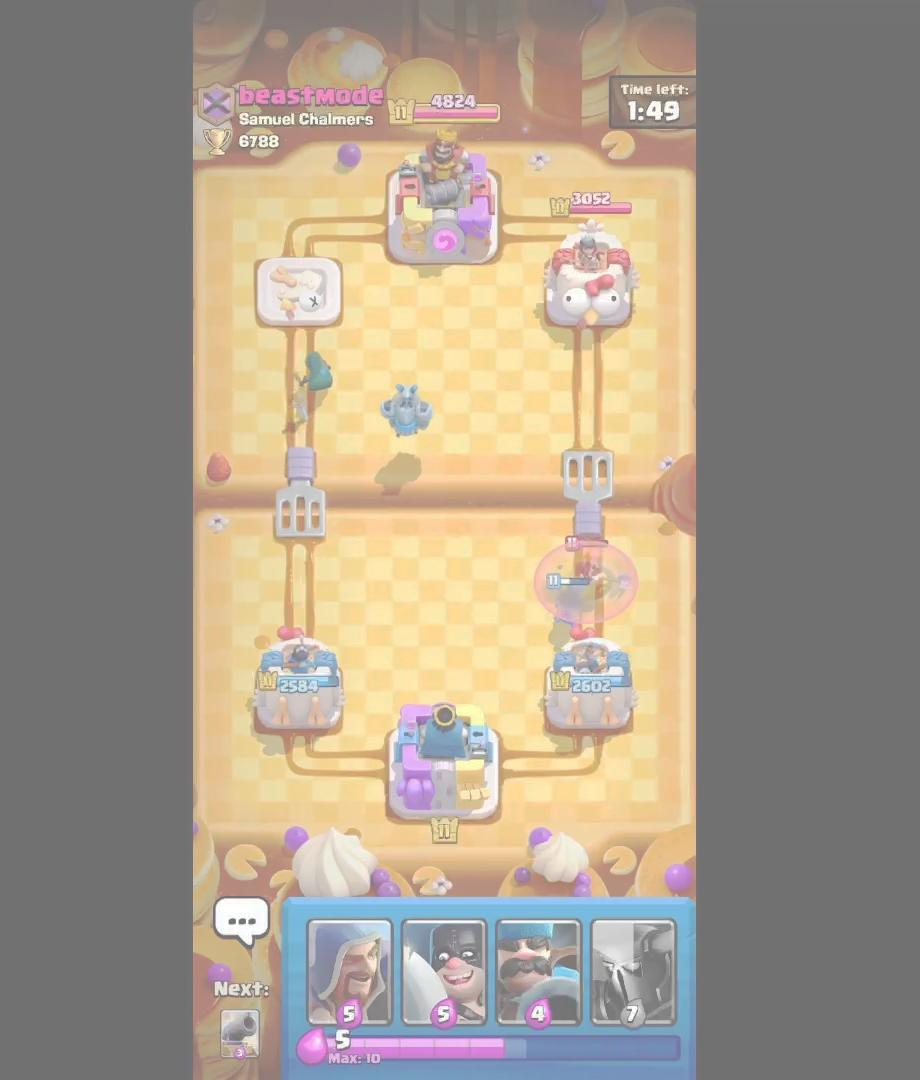Valkyrie: (551, 533, 644, 596)
